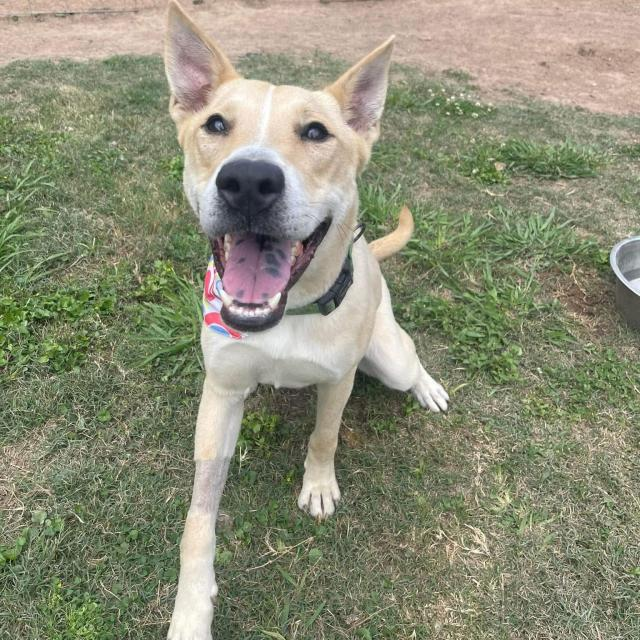labrador_retriever_dog: (137, 0, 406, 358)
